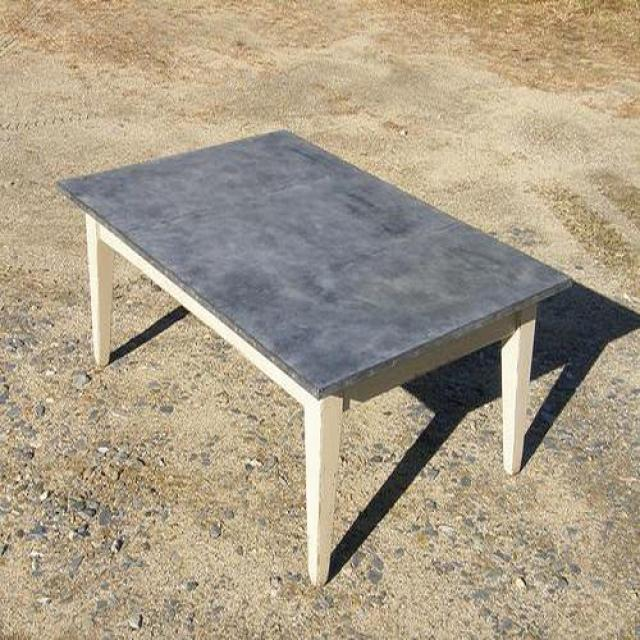table: (59, 131, 572, 589)
